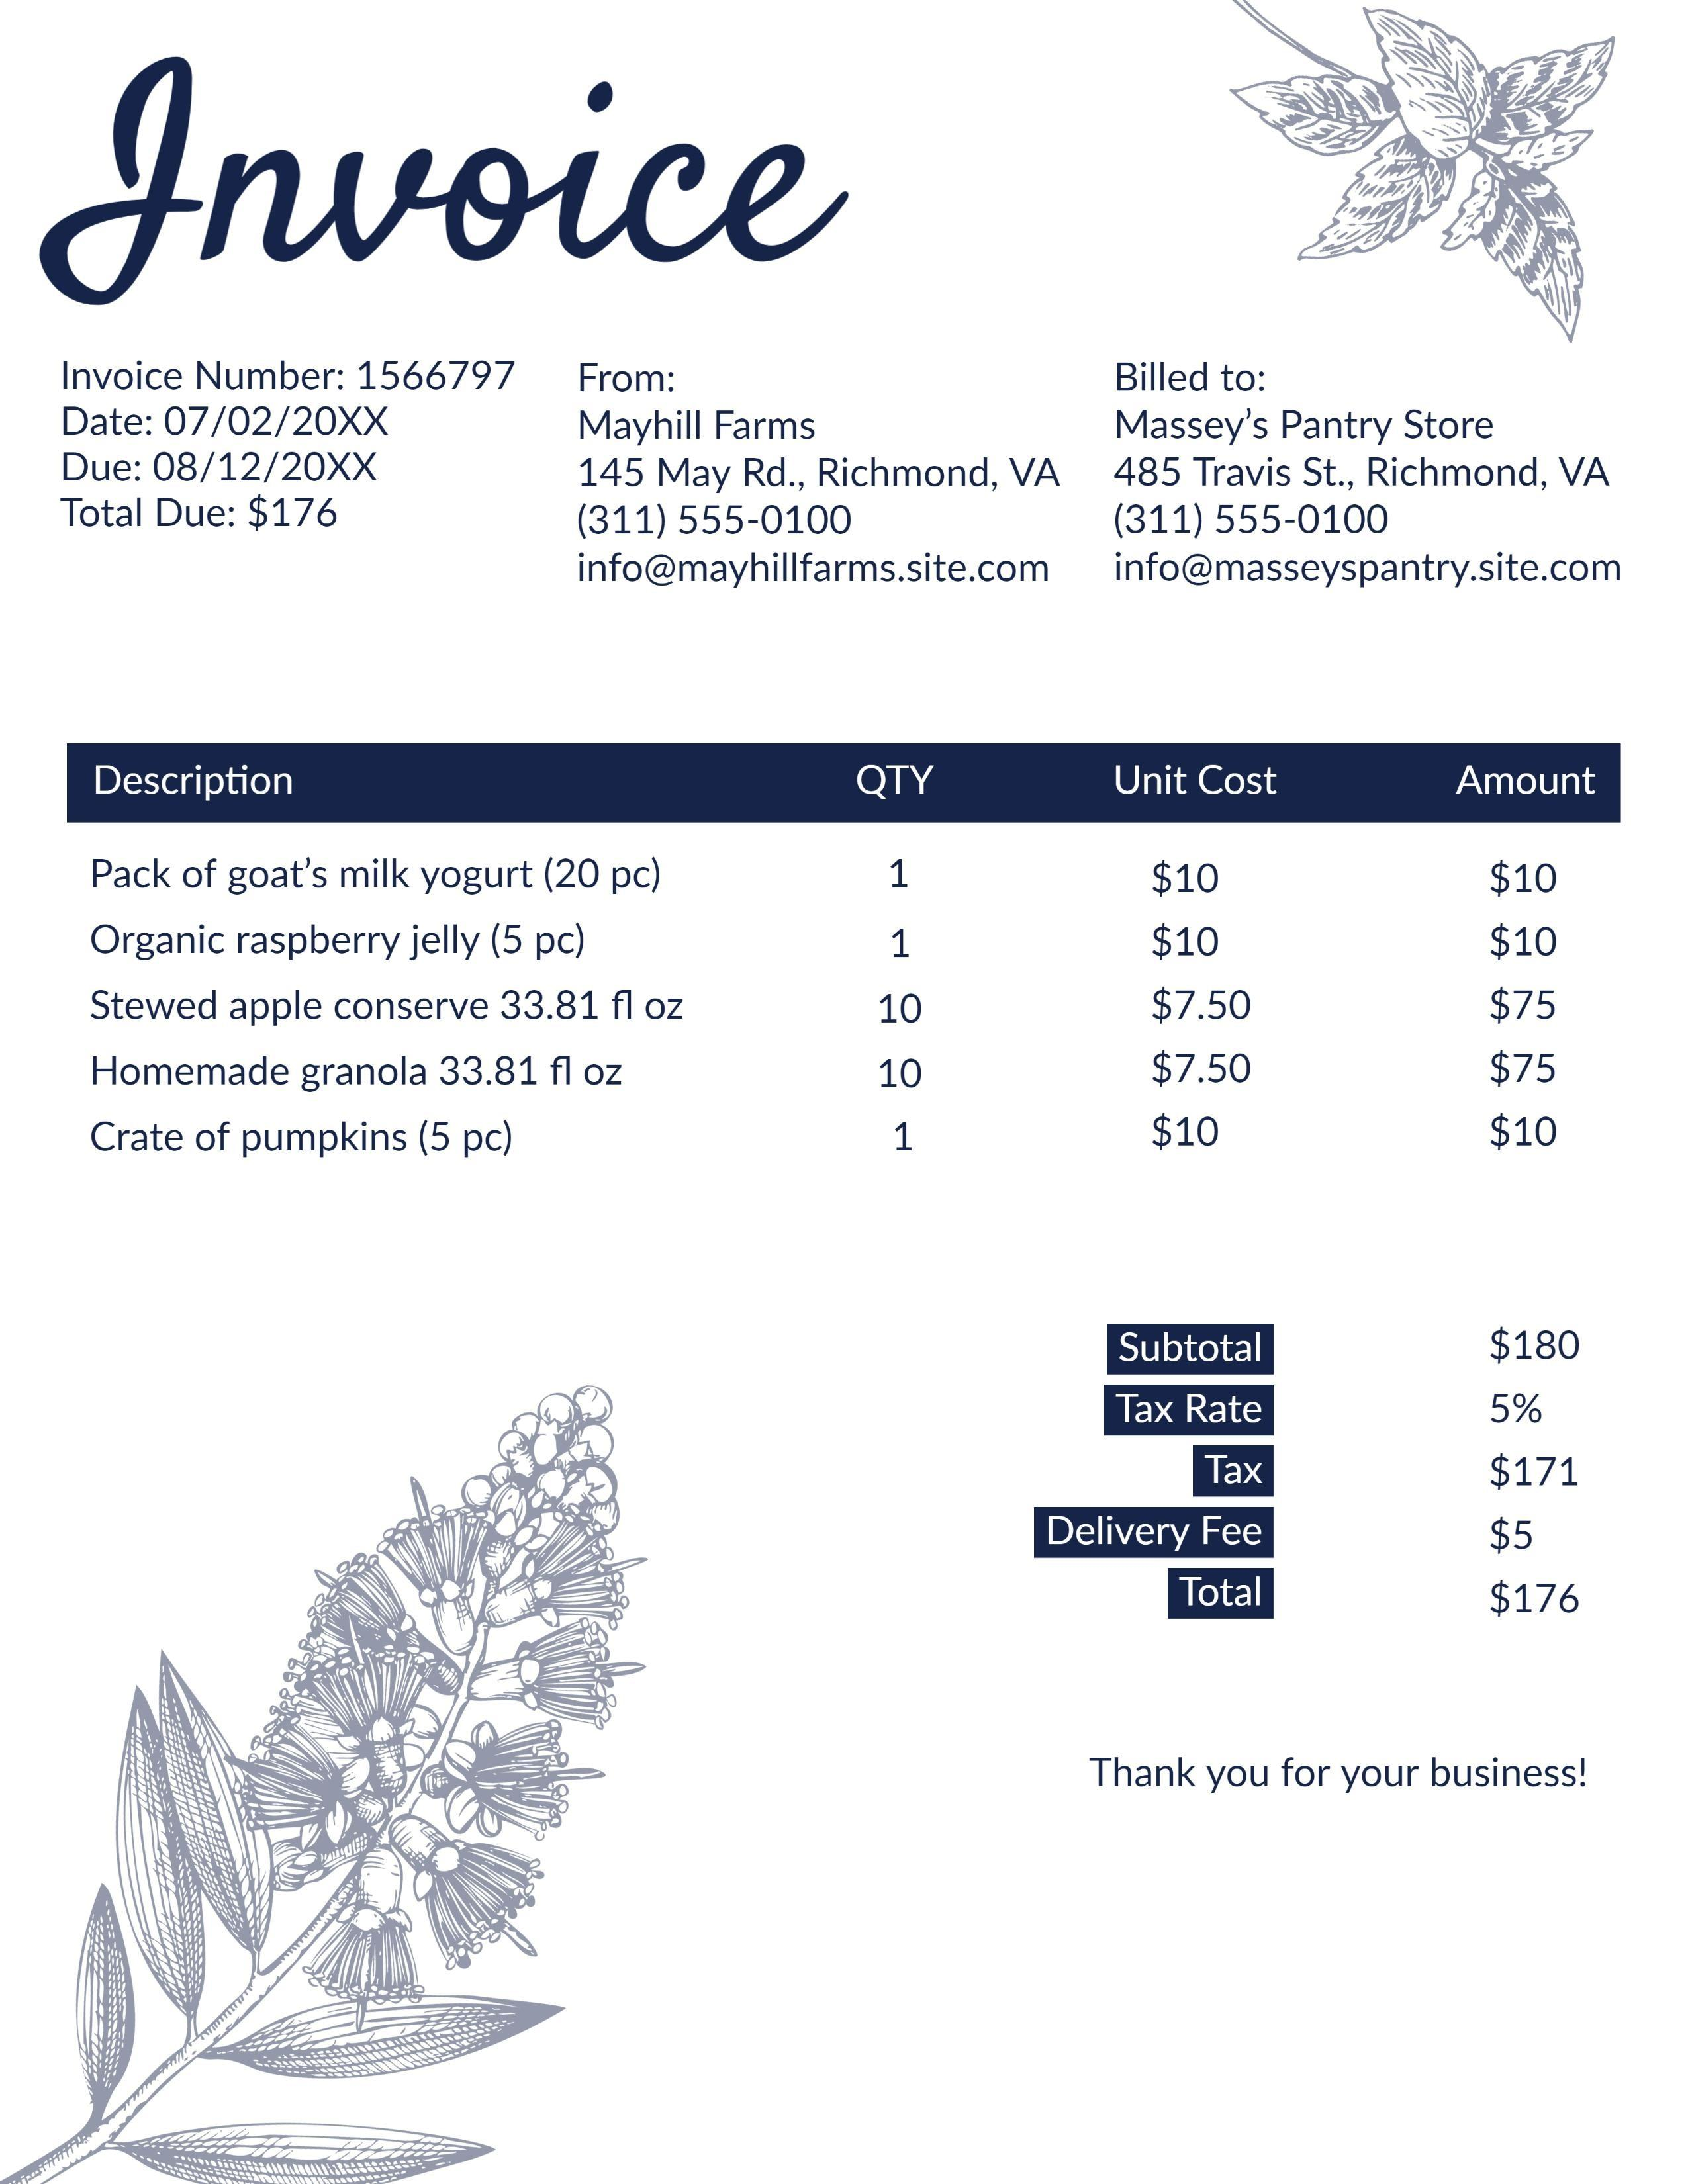ROI: (66, 752, 1610, 1179), (1032, 1321, 1606, 1645), (1103, 360, 1635, 597), (578, 356, 1069, 606), (59, 346, 525, 557)
